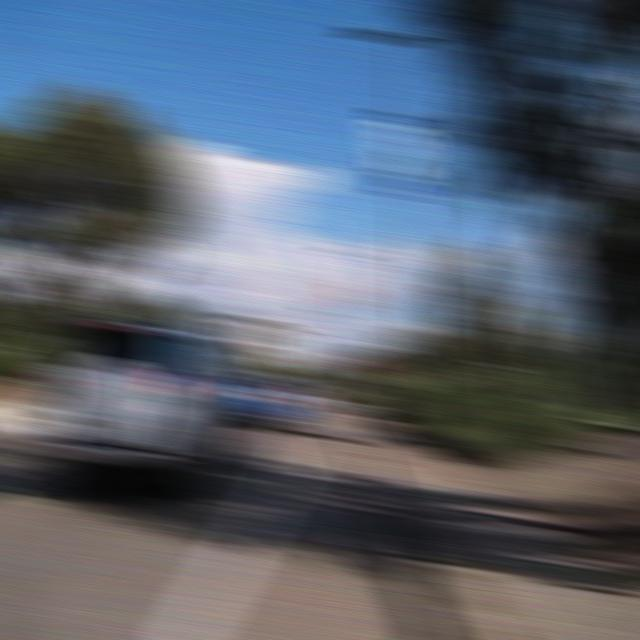stop: (342, 349, 376, 371)
